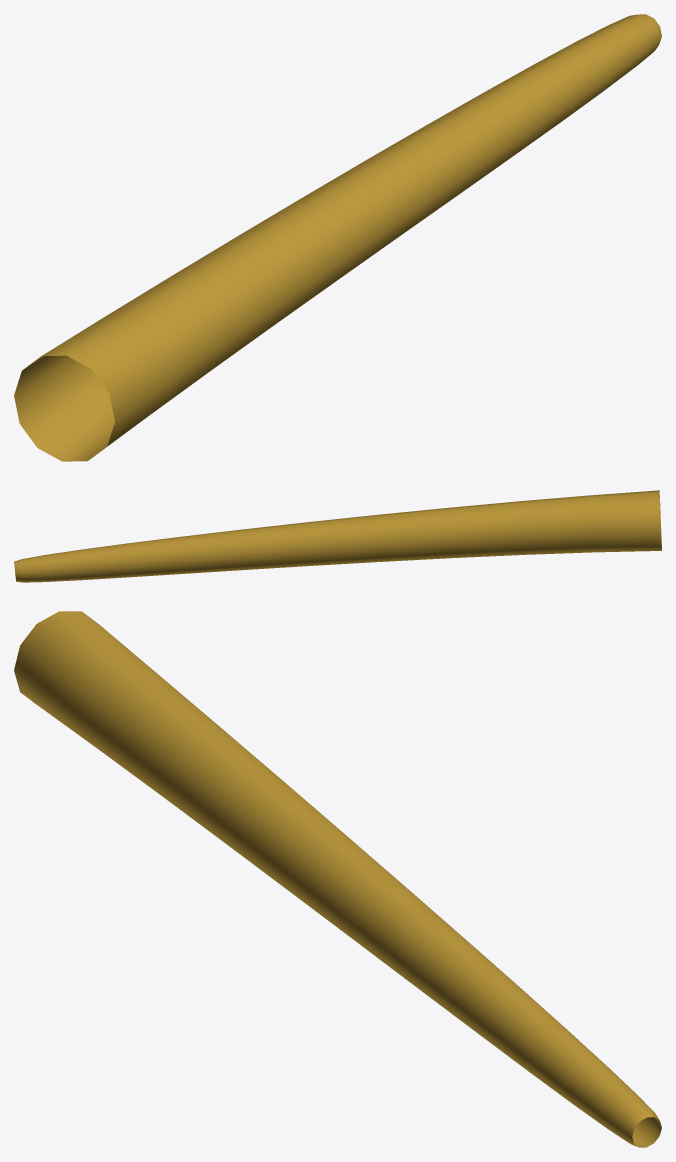
3 renders of one model, top to bottom at view 1: azimuth 30°, elevation 25°; view 2: azimuth 150°, elevation 25°; view 3: azimuth 270°, elevation 25°, orthographic. The views are drawn at different scales.
Parts seen in each view (by area): view 1: 左侧臂丛下干后股; view 2: 左侧臂丛下干后股; view 3: 左侧臂丛下干后股.
Part boxes in pixels (bbox=[...]): 左侧臂丛下干后股: bbox=[14, 14, 661, 461]; 左侧臂丛下干后股: bbox=[14, 490, 661, 582]; 左侧臂丛下干后股: bbox=[14, 611, 661, 1147].
Bounding box in the file's own units: 0.0413 × 0.00641 × 0.0272.
